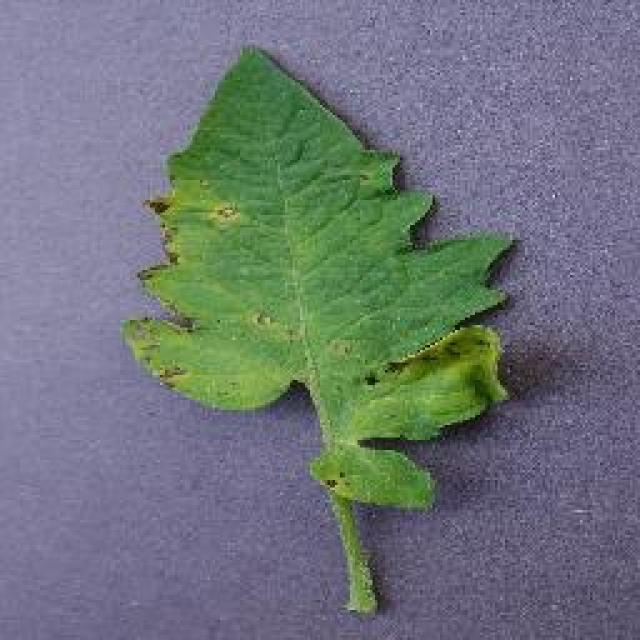Tomato Septoria spot leaf: (126, 42, 514, 510)
